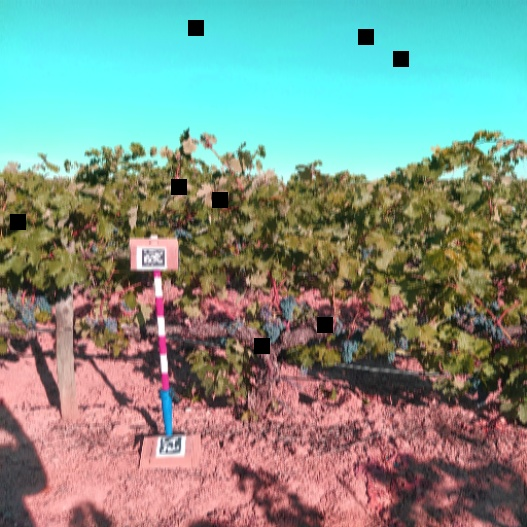QR: (139, 247, 165, 266), (158, 434, 181, 452)
